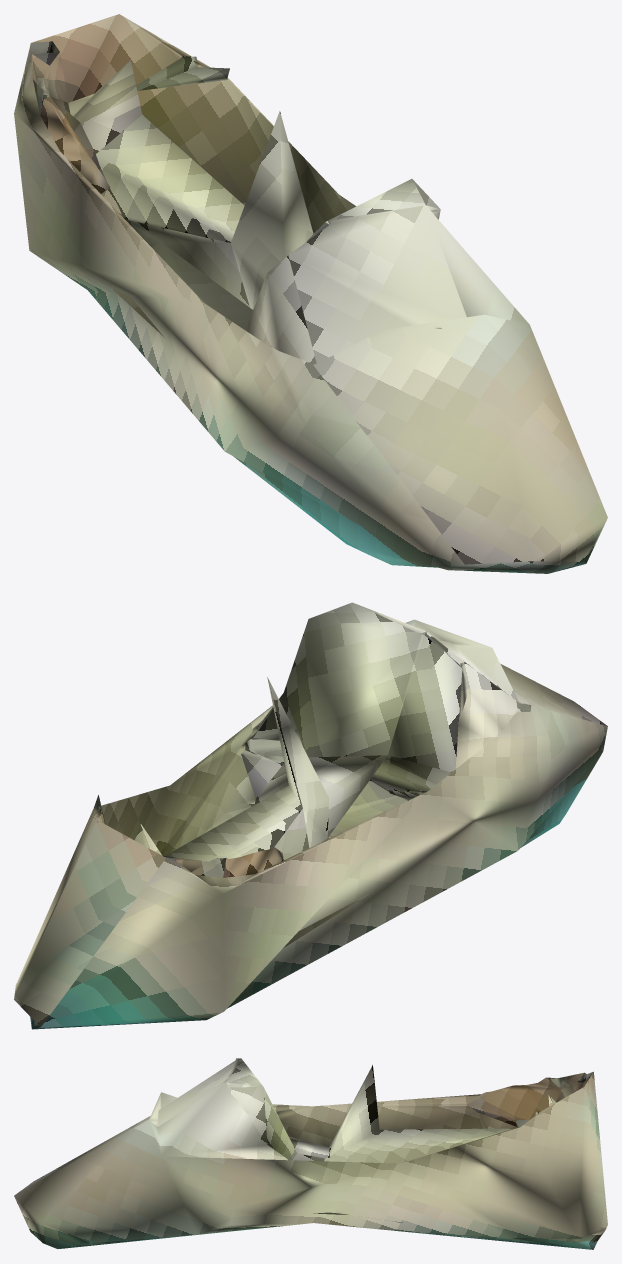
Rendered from Cream_Tieks_Italian_Leather_Ballet_Flats-low.glb.
3 renders of one model, top to bottom at view 1: azimuth 30°, elevation 25°; view 2: azimuth 150°, elevation 25°; view 3: azimuth 270°, elevation 25°, orthographic. The views are drawn at different scales.
Visible parts, largest first — view 1: Cream_Tieks_Italian_Leather_Ballet_Flats; view 2: Cream_Tieks_Italian_Leather_Ballet_Flats; view 3: Cream_Tieks_Italian_Leather_Ballet_Flats.
Part boxes in pixels (x1,y1,x2,y2): Cream_Tieks_Italian_Leather_Ballet_Flats: (14, 14, 607, 573); Cream_Tieks_Italian_Leather_Ballet_Flats: (14, 602, 607, 1029); Cream_Tieks_Italian_Leather_Ballet_Flats: (14, 1058, 607, 1249).
Bounding box in the file's own units: 0.0786 × 0.0733 × 0.2352.
1 material, 1 textured.
